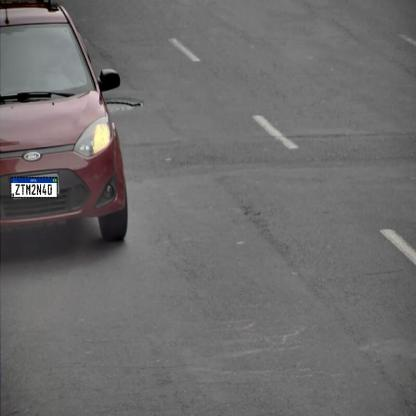PlacaM: (10, 177, 58, 198)
